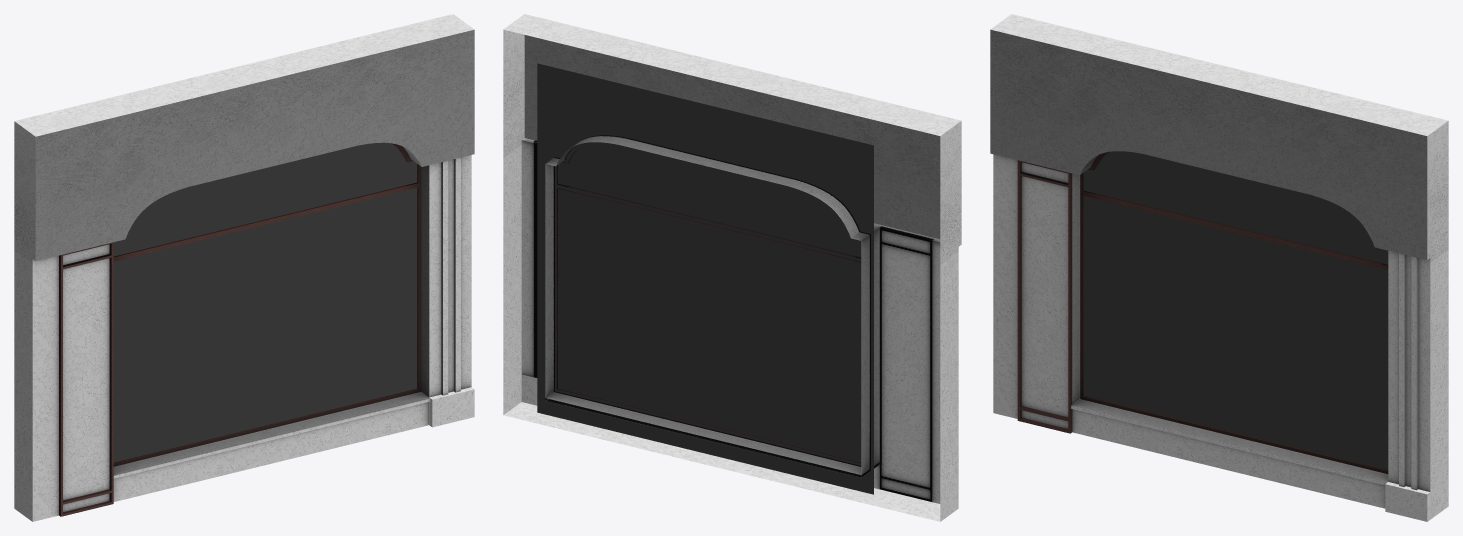
File: floorfirst_4.glb
3 renders of one model, left to right at view 1: azimuth 30°, elevation 25°; view 2: azimuth 150°, elevation 25°; view 3: azimuth 330°, elevation 25°, orthographic.
Visible parts, largest first — view 1: floorfirst_4; view 2: floorfirst_4; view 3: floorfirst_4.
Boxes of the visible parts, bbox=[...] form: floorfirst_4: bbox=[14, 14, 474, 521]; floorfirst_4: bbox=[503, 14, 961, 521]; floorfirst_4: bbox=[990, 14, 1448, 521].
Size of the model in its own units: 4.15 by 3.5 by 0.35.
Materials: 3 (2 with a texture image).
